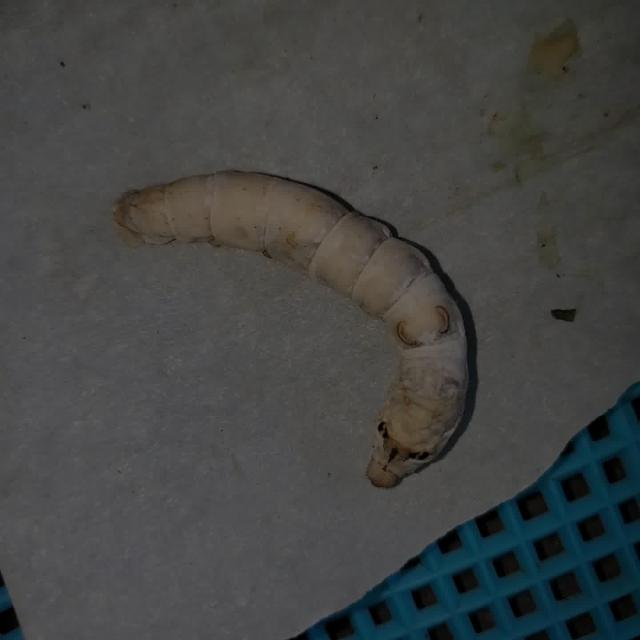Grasserie: (102, 150, 481, 508)
